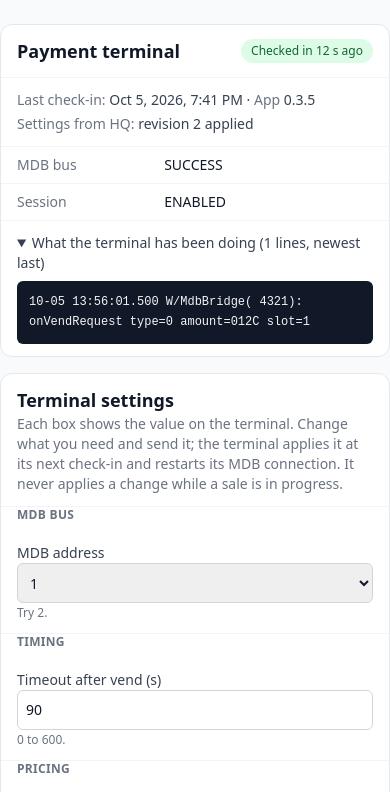
Test case: TerminalPanel › sends what was changed on top of what was saved, and nothing else
Select "2" in the dropdown labelled "MDB address" at (195,583), box x1=17 y1=563 x2=373 y2=603
(page scrolled)
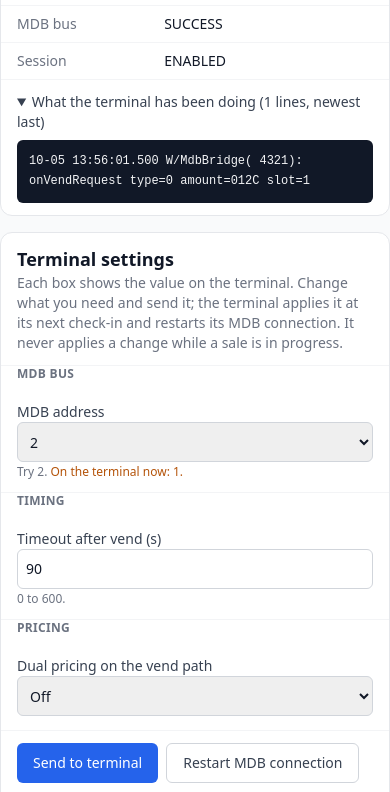
Result: the button "Send to terminal" is enabled
Click the button "Send to terminal".
click(88, 763)  # box x1=17 y1=743 x2=158 y2=783
(page scrolled)
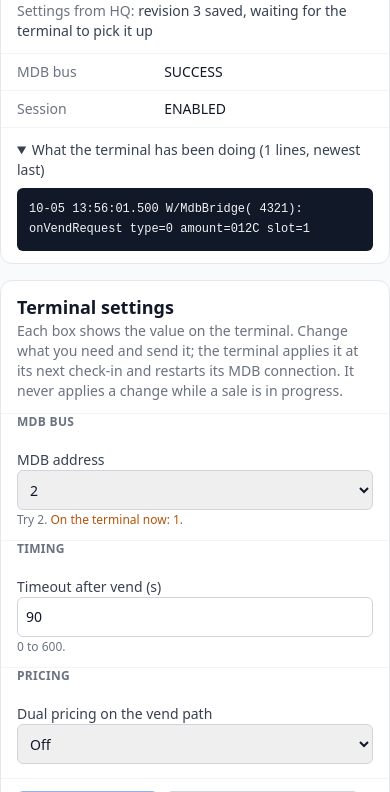
Result: the text "revision 3 saved, waiting for the terminal" is shown at x1=17 y1=1 x2=347 y2=40
